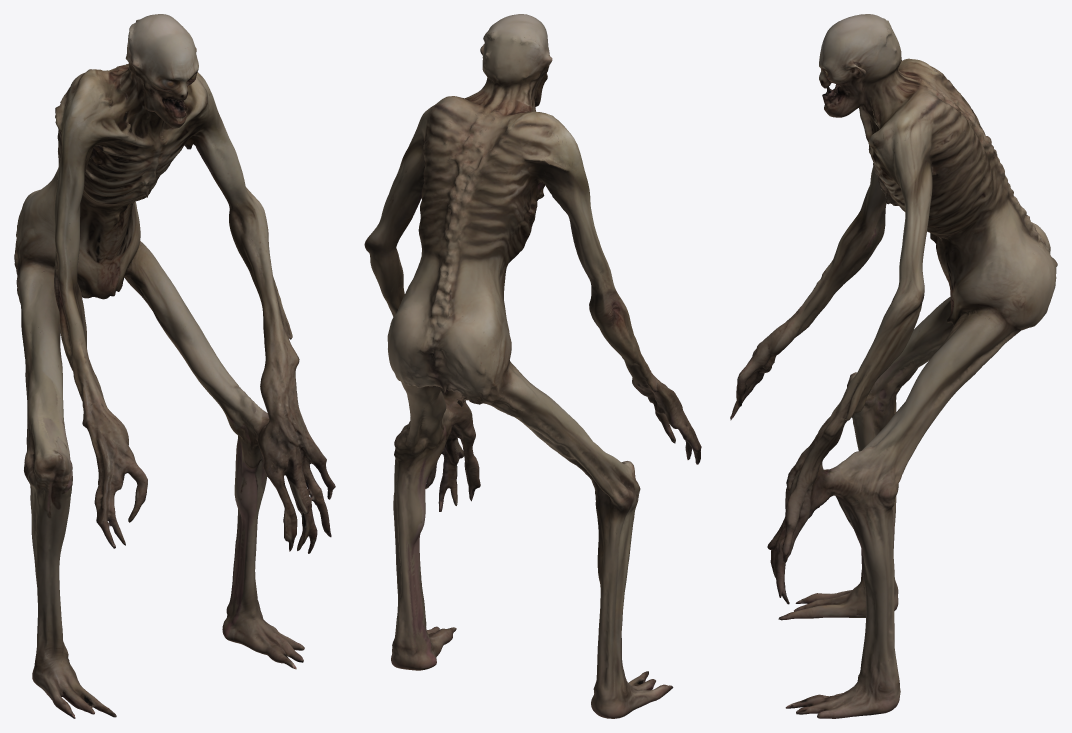
The model's file is gaunt-horror.glb.
3 views of the same model, side by side, from view 1: azimuth 30°, elevation 25°; view 2: azimuth 150°, elevation 25°; view 3: azimuth 270°, elevation 25° (orthographic). The views are drawn at different scales.
Parts seen in each view (by area): view 1: Object_4; view 2: Object_4; view 3: Object_4.
Part boxes in pixels (box(x1,y1,x2,y2)): Object_4: box(14, 14, 335, 718); Object_4: box(364, 14, 701, 718); Object_4: box(730, 14, 1057, 718).
Bounding box in the file's own units: 0.8397 × 1.99 × 0.9182.
1 material, 1 textured.
